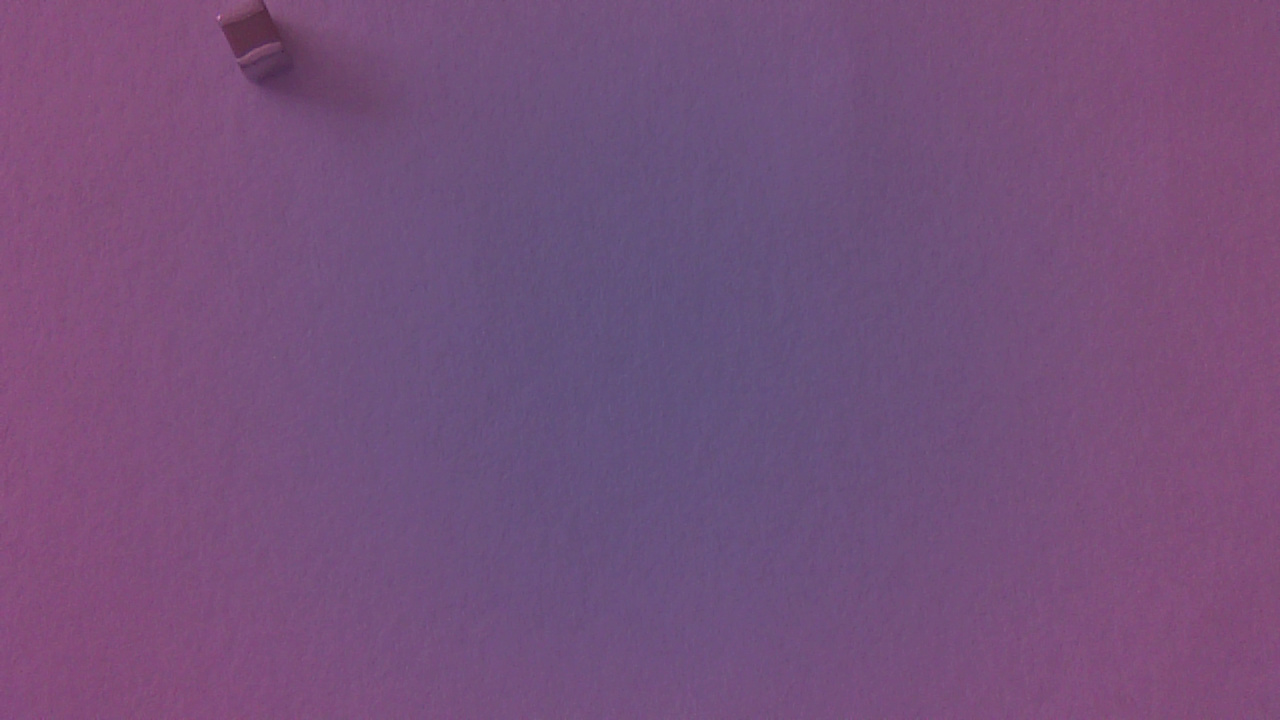Condensator: (219, 8, 300, 94)
